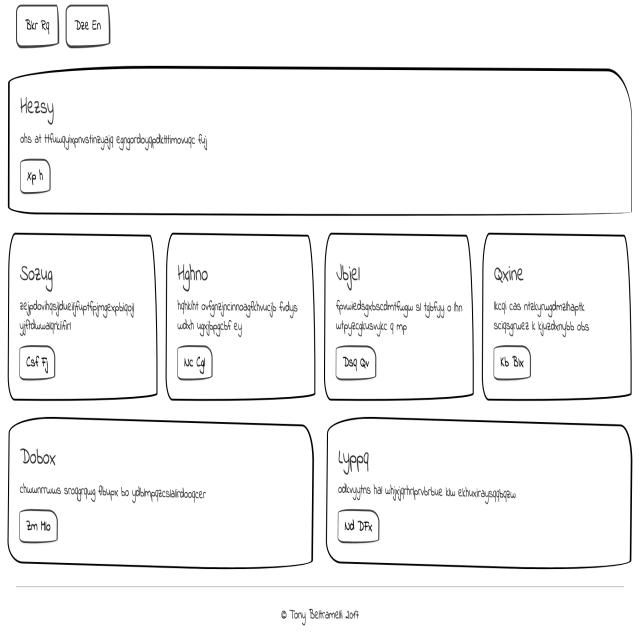Button: (336, 340, 378, 386), (338, 508, 385, 546), (489, 345, 539, 378), (176, 342, 216, 380), (20, 510, 63, 543), (22, 161, 56, 194), (21, 346, 61, 374)
Card: (8, 72, 635, 199), (0, 413, 315, 571), (330, 424, 634, 569), (9, 228, 160, 403), (167, 226, 316, 397), (329, 234, 473, 400), (486, 237, 626, 396)
Footer: (5, 581, 640, 640)
Heading 6: (16, 86, 65, 122), (488, 254, 542, 284), (20, 439, 64, 471), (333, 252, 371, 287), (339, 442, 383, 472), (169, 254, 213, 282), (19, 260, 57, 288)
Navigation Bar: (13, 8, 114, 48)
Paragraph: (12, 291, 144, 340), (170, 288, 305, 334), (336, 470, 521, 503), (333, 296, 466, 336), (18, 126, 216, 152), (22, 482, 218, 506), (493, 296, 599, 340)
